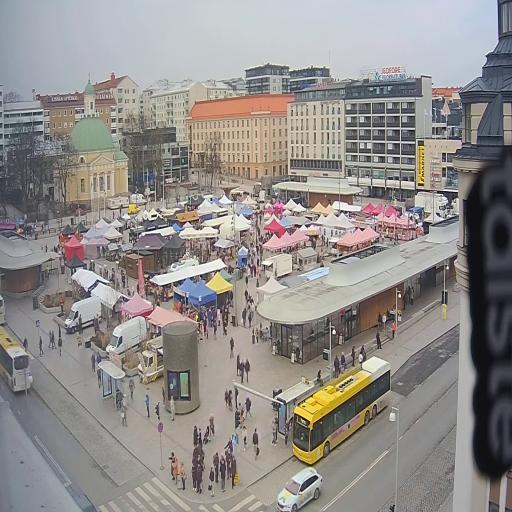bus: (289, 352, 393, 468), (0, 323, 36, 394), (0, 290, 11, 330)
car: (272, 456, 326, 512)
delivery: (103, 308, 150, 370), (63, 290, 106, 339), (410, 190, 447, 219), (129, 190, 150, 208), (126, 204, 140, 216)
